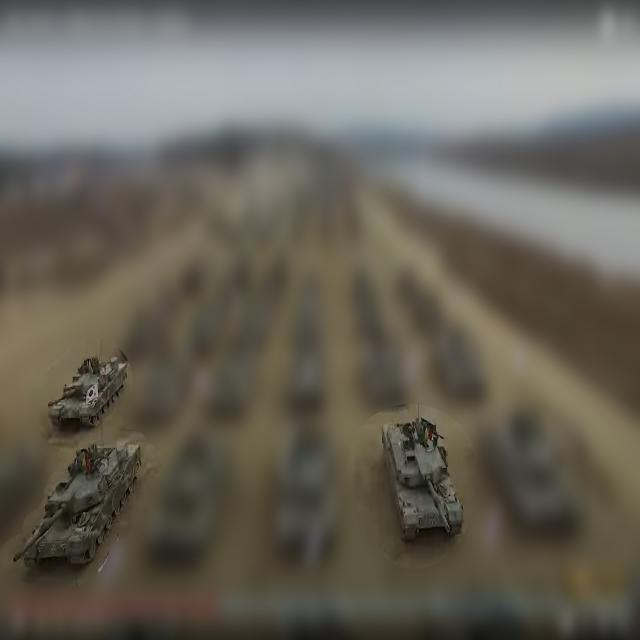tank: (13, 442, 144, 572), (380, 407, 466, 544), (40, 350, 131, 432)
